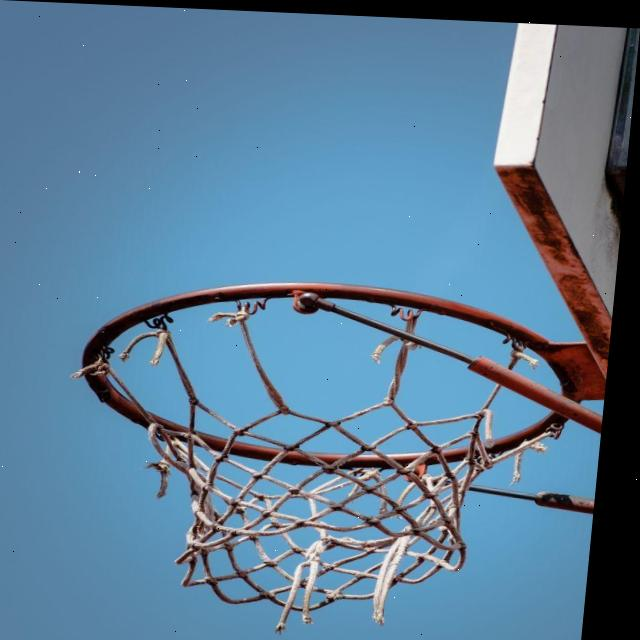hoop: (15, 276, 614, 640)
